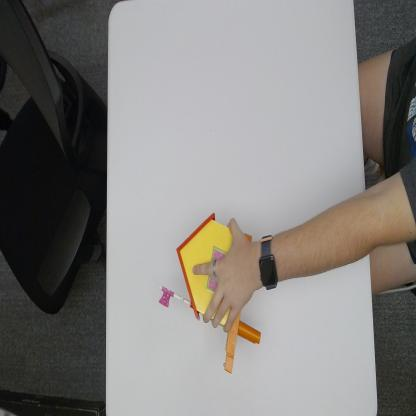Arm: (280, 176, 369, 288)
House: (152, 208, 261, 379)
